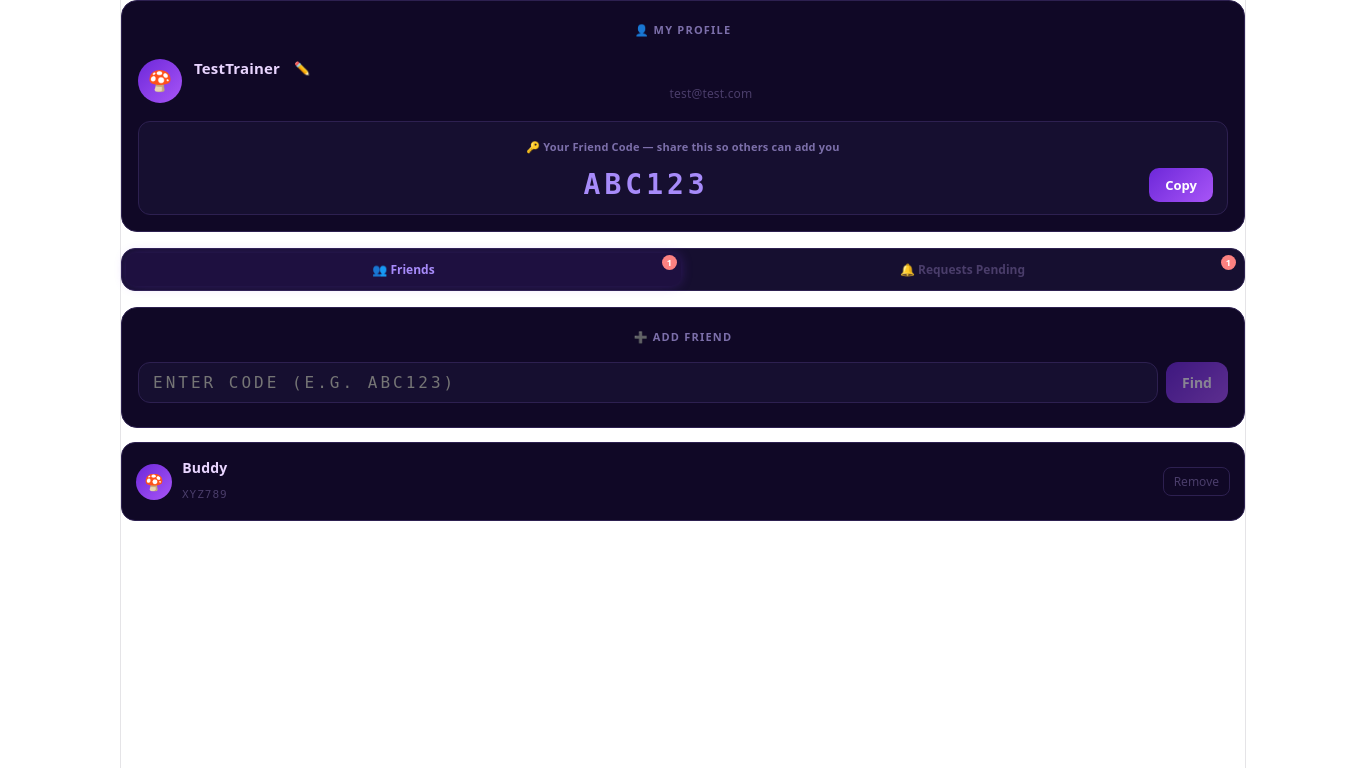
Scenario: FriendsView › shows pending friend requests in notifications tab
Click the button "🔔 Requests Pending 1": (962, 270) [685,253,1240,286]
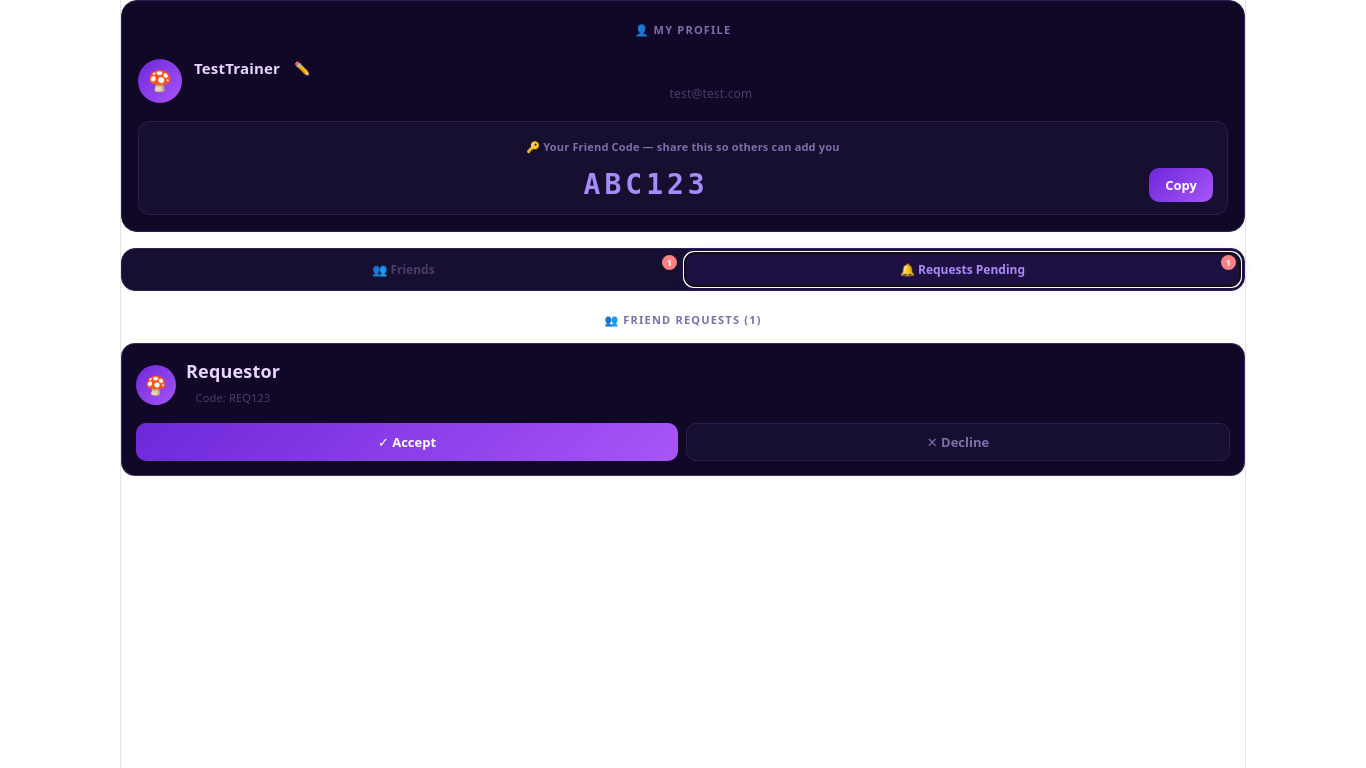
Result: the text "Requestor" is shown at [186,358,280,385]
Result: the text "Code: REQ123" is shown at [196,390,270,405]
Result: the button "✓ Accept" is shown at [136,423,678,461]
